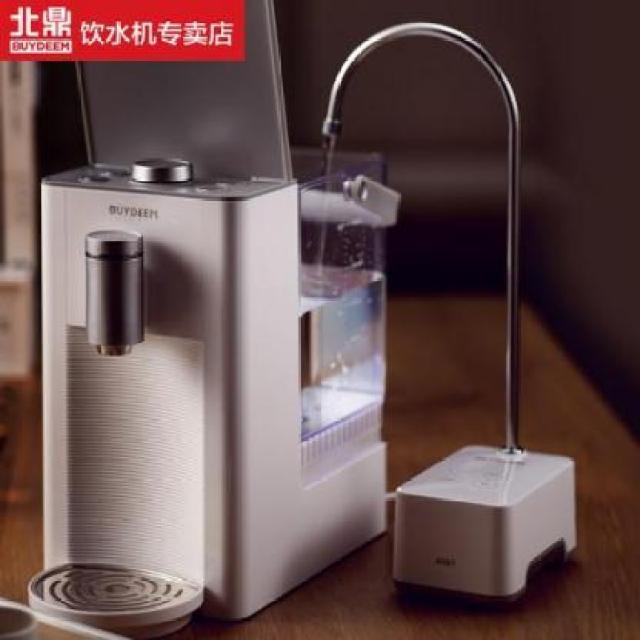cooler: (26, 140, 390, 631)
